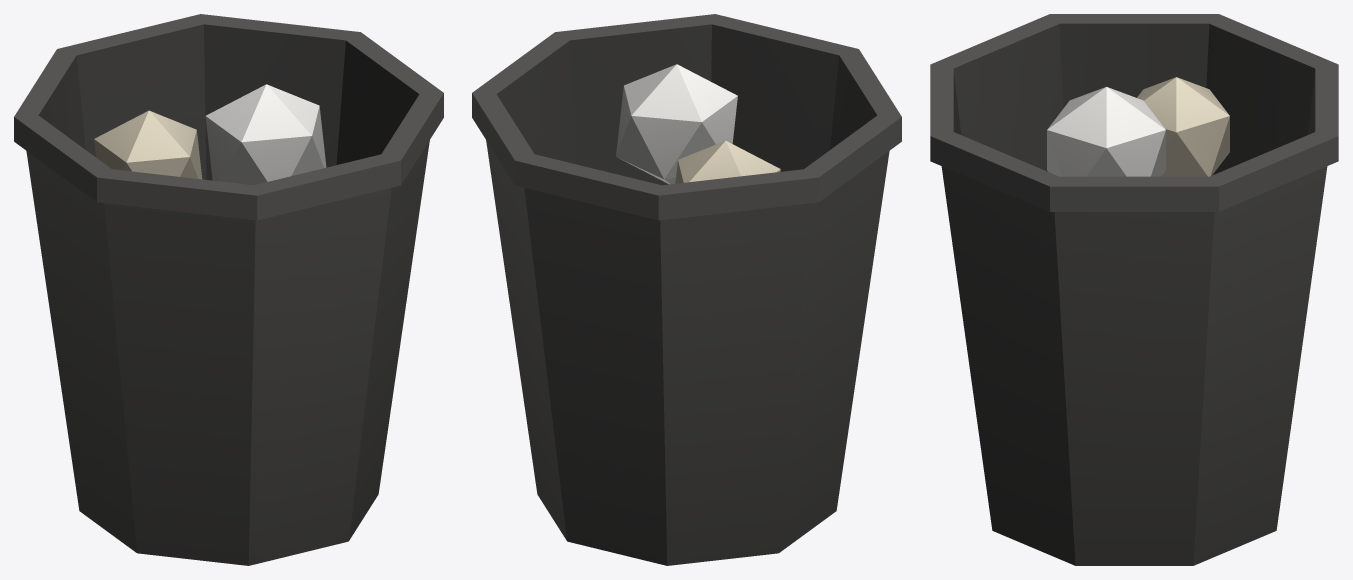
File: bin_01.glb
3 views of the same model, side by side, from view 1: azimuth 30°, elevation 25°; view 2: azimuth 150°, elevation 25°; view 3: azimuth 270°, elevation 25° (orthographic).
Visible parts, largest first — view 1: bin_01_mesh; view 2: bin_01_mesh; view 3: bin_01_mesh.
Part boxes in pixels (left/top/right/bottom): bin_01_mesh: left=14, top=14, right=443, bottom=565; bin_01_mesh: left=472, top=14, right=901, bottom=565; bin_01_mesh: left=930, top=14, right=1338, bottom=565.
Size of the model in its own units: 0.2919 by 0.34 by 0.2919.
1 material, 1 textured.
